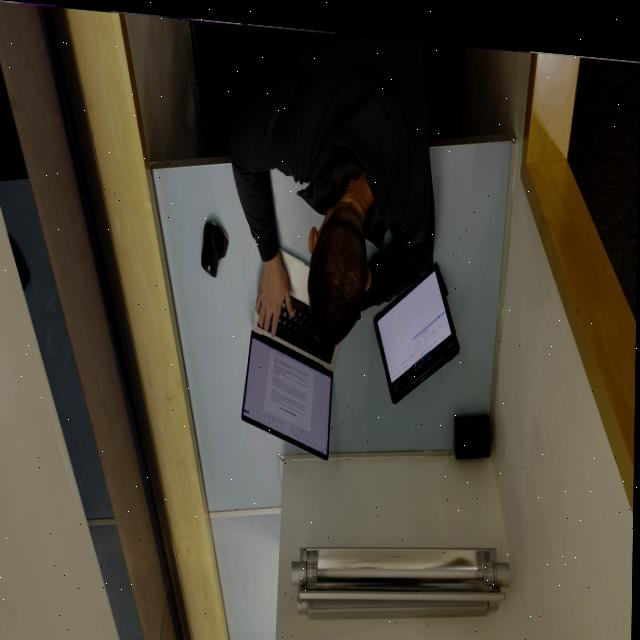bag: (374, 249, 462, 403)
ipad: (218, 18, 439, 348)
laptop: (242, 238, 344, 456)
mouse: (202, 215, 230, 275)
